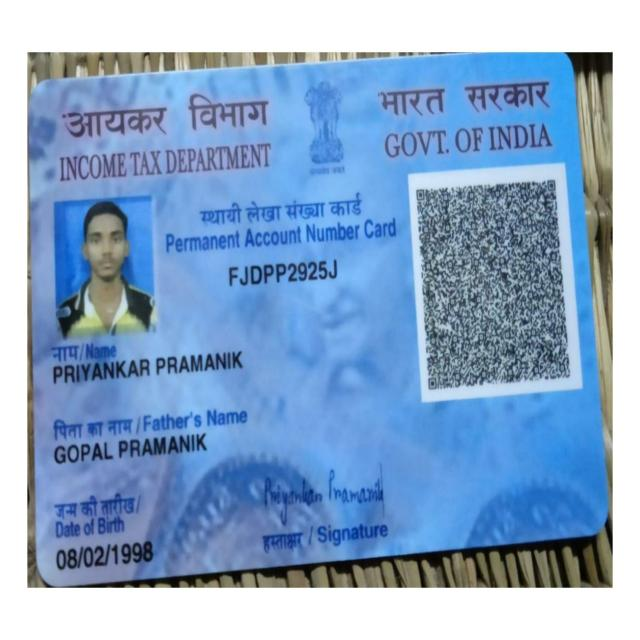pan_card: (33, 55, 599, 589)
